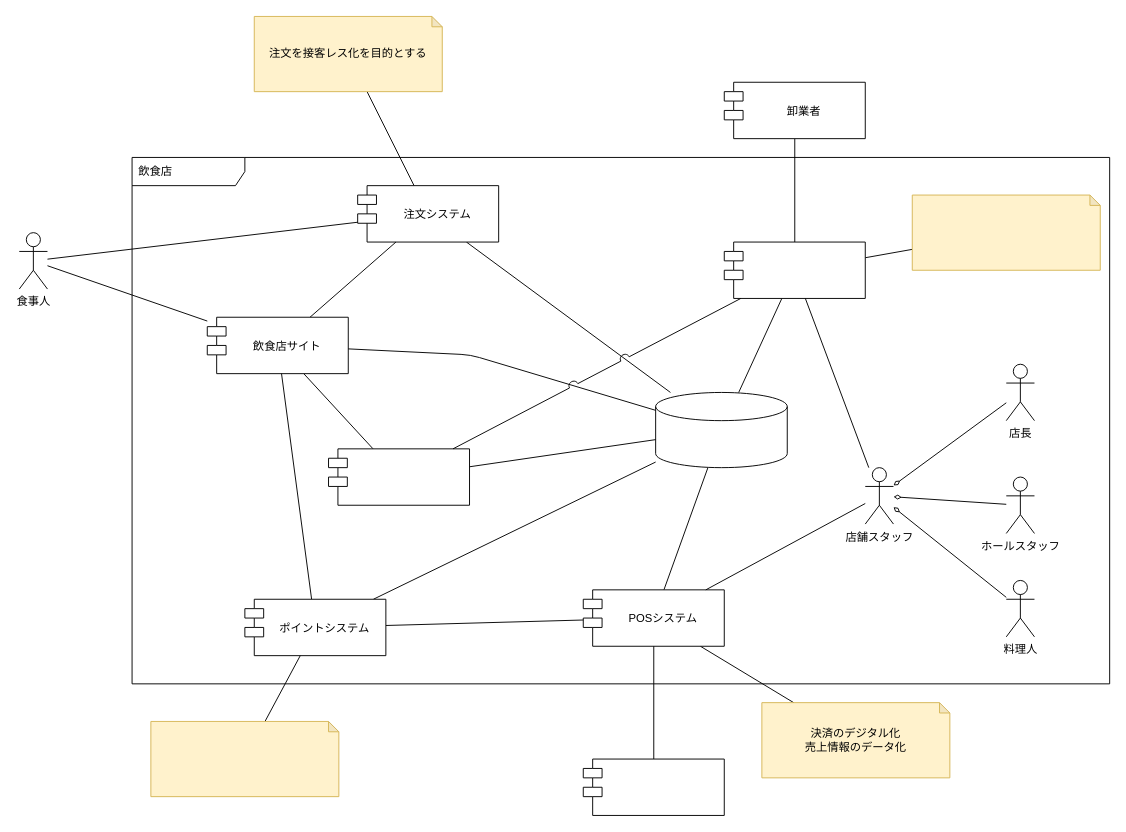
Image size: 1126x832. Some labels were removed from this diagram. The centre of each missing label's shape, as x and y in pixels:
"在庫の管理、発注等のシステム化" belongs at pixel 1005 232.
"店舗管理システム" belongs at pixel 794 269.
"決済事業者" belongs at pixel 653 786.
"顧客サービス向上の為にポイントを介して割引等のサービスを提供し、リピート客を増やす" belongs at pixel 244 759.
"顧客管理システム" belongs at pixel 399 476.
"飲食店DB" belongs at pixel 721 430.
